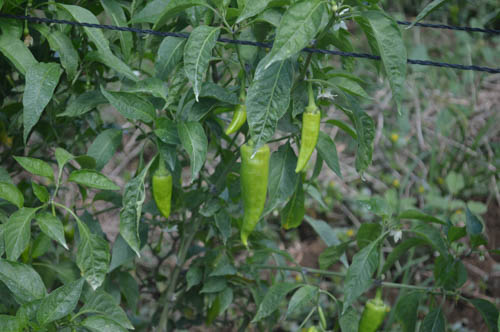ChiliPepper: (239, 143, 268, 247), (290, 109, 320, 172), (357, 301, 387, 332), (151, 175, 172, 214), (224, 104, 248, 138)
